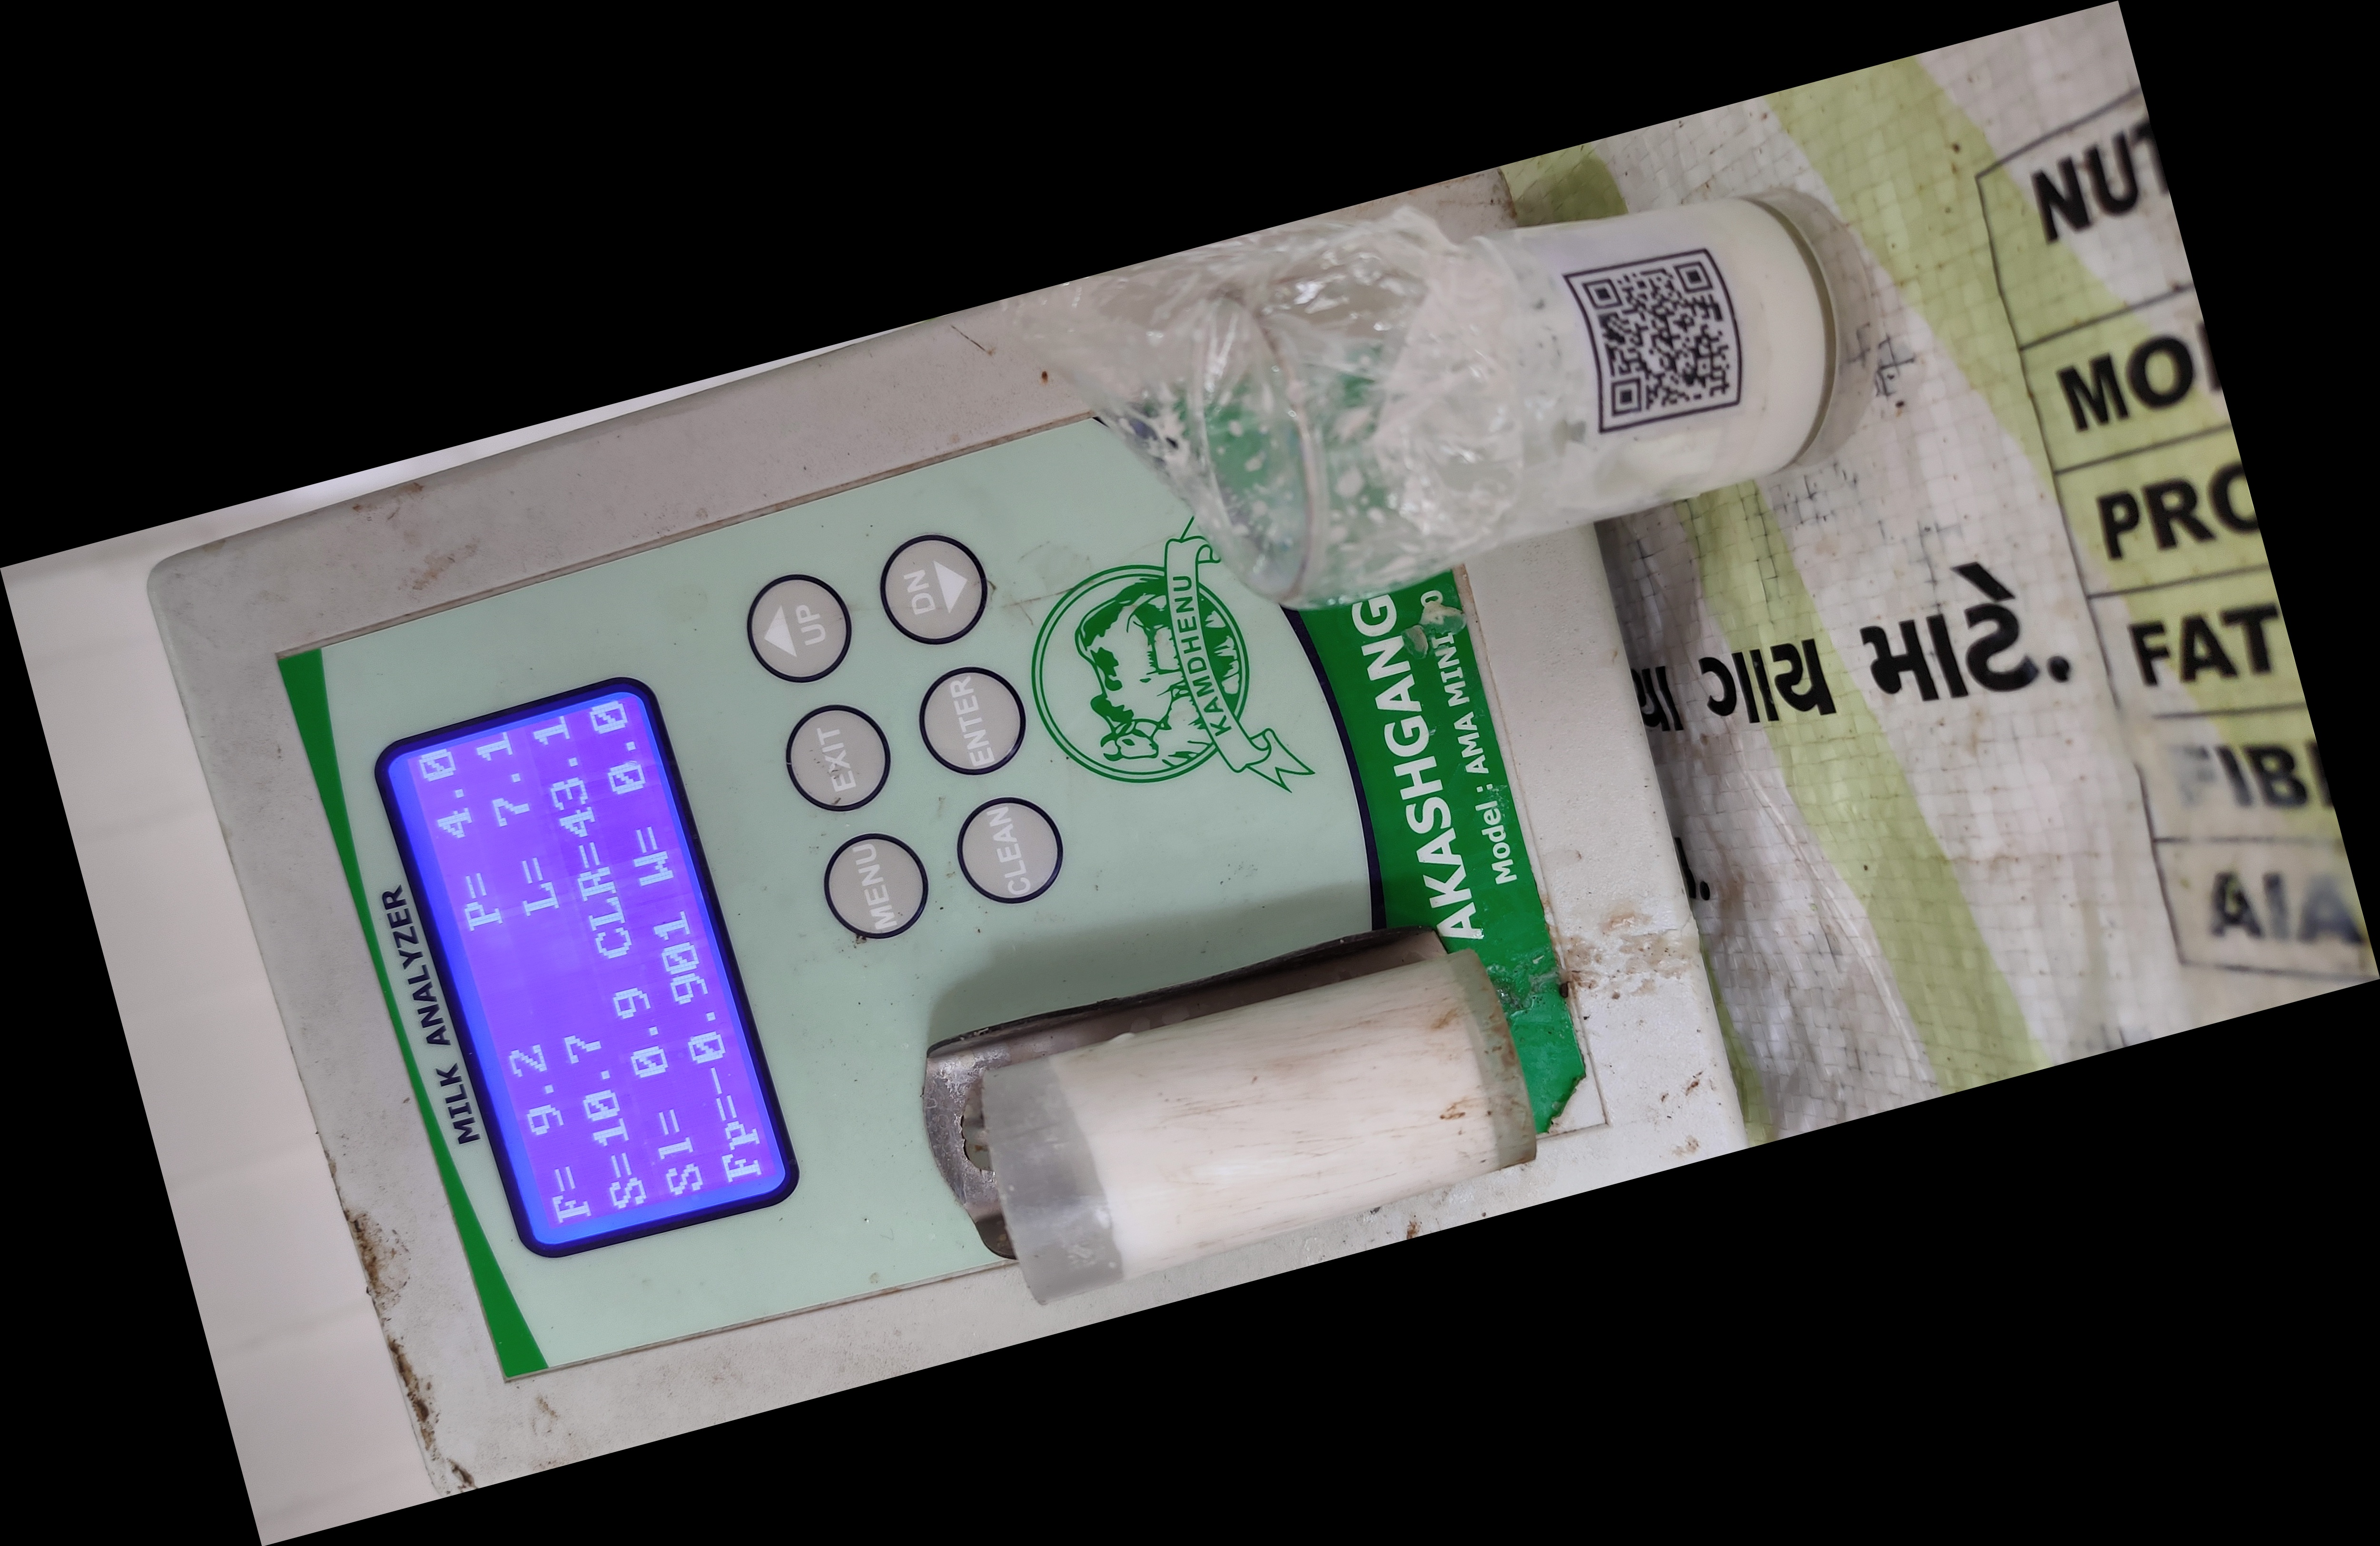lcd: (363, 685, 810, 1261)
qr: (1558, 252, 1752, 436)
